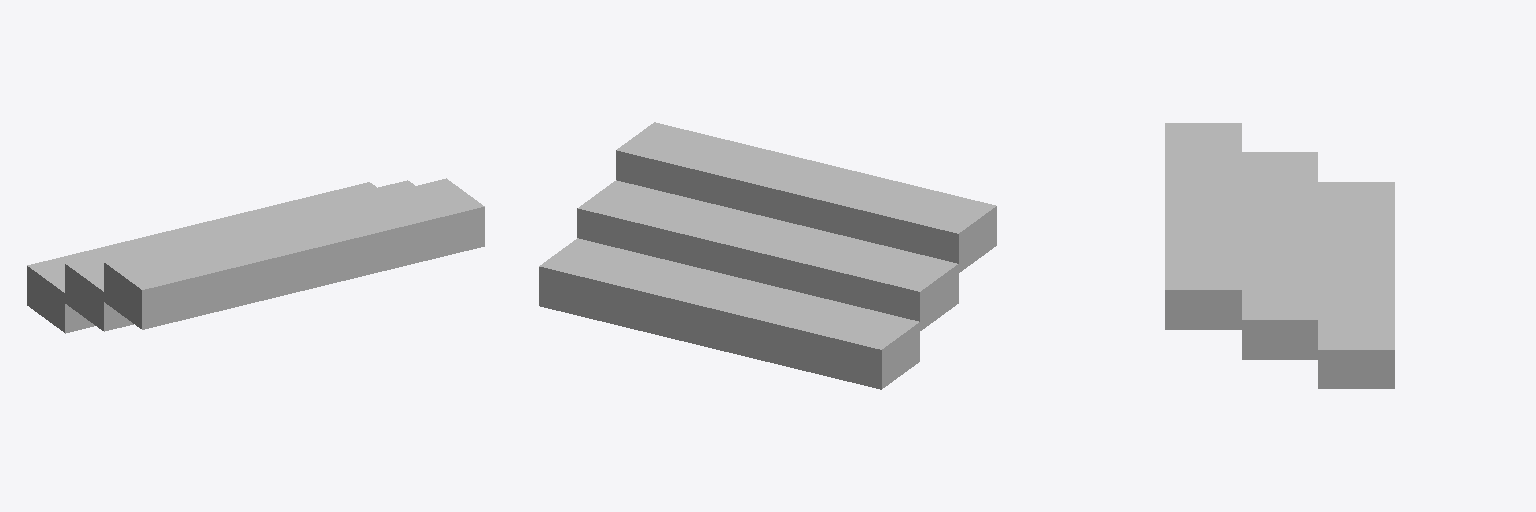
Rendered from GGJ stone stairs.obj.
3 views of the same model, side by side, from view 1: azimuth 30°, elevation 25°; view 2: azimuth 150°, elevation 25°; view 3: azimuth 270°, elevation 25° (orthographic).
Parts seen in each view (by area): view 1: object 1; view 2: object 1; view 3: object 1.
Part boxes in pixels (x1,y1,x2,y2): object 1: (27,178,484,333); object 1: (539,122,996,389); object 1: (1165,123,1394,388).
Bounding box in the file's own units: 7.2 × 2 × 4.2.